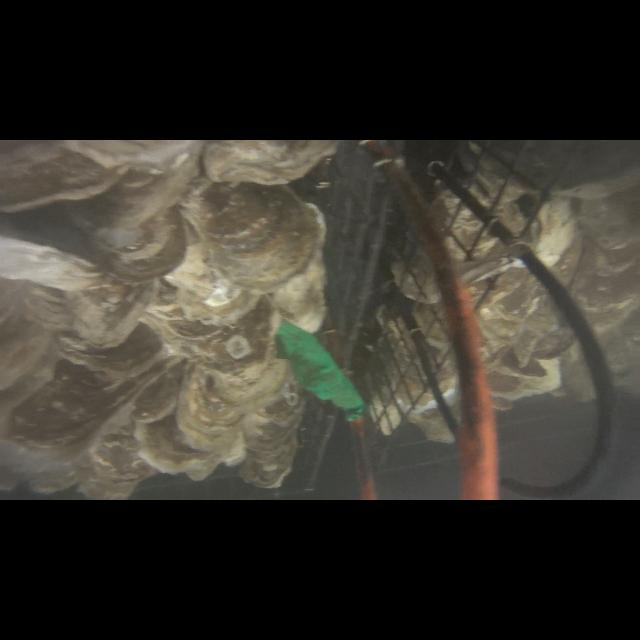Oyster-Closed: (176, 358, 304, 488), (182, 182, 325, 292), (0, 140, 200, 212), (10, 359, 118, 446), (78, 205, 185, 281), (162, 245, 258, 322), (196, 296, 280, 371), (0, 279, 56, 391), (202, 140, 339, 185), (479, 268, 551, 352), (59, 322, 165, 379), (66, 281, 156, 348), (135, 414, 220, 480), (0, 236, 101, 291), (571, 246, 640, 325), (488, 349, 561, 401), (131, 360, 185, 424), (579, 195, 640, 249), (391, 244, 440, 304), (535, 198, 576, 268), (459, 256, 524, 288)
